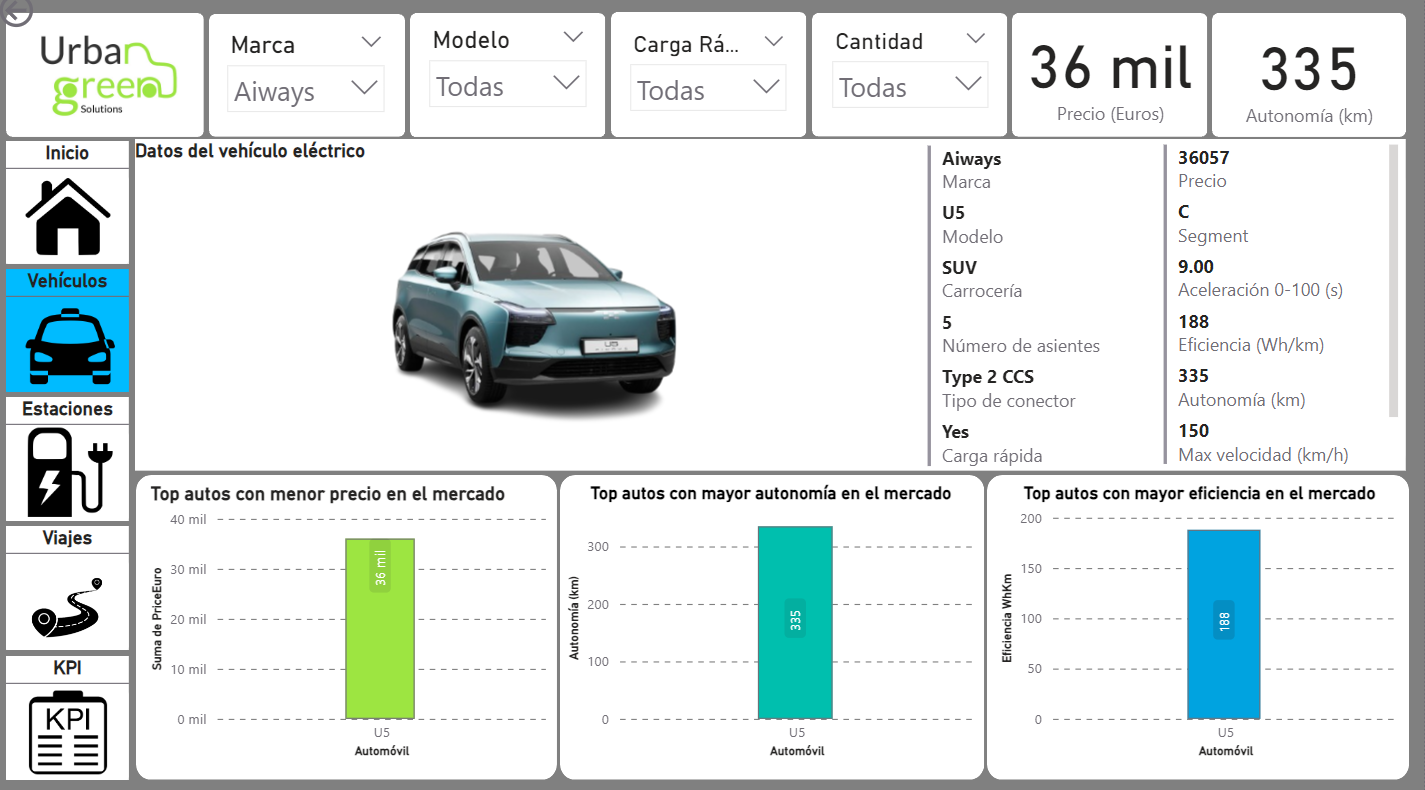

This screenshot's page, from the dashboard's own definition file:
{"tool":"powerbi","page":{"name":"Información de vehículos ","canvas":[1280,720],"ordinal":0},"visuals":[{"type":"shape","box":[10.7,20,175,110.7],"z":0},{"type":"image","box":[18.4,20.3,160,106.2],"z":1000},{"type":"shape","box":[192.1,20.7,175,110.7],"z":2000},{"type":"shape","box":[372.1,20,175,111.4],"z":3000},{"type":"shape","box":[552,19,175,112],"z":4000},{"type":"shape","box":[732.1,20,175,110.7],"z":5000},{"type":"shape","box":[911.4,20,175,111.4],"z":6000},{"type":"shape","box":[11,138,1255,297],"z":7000},{"type":"shape","box":[11,442,527,271],"z":8000},{"type":"shape","box":[545,442,506,271],"z":9000},{"type":"shape","box":[1058,442,208,271],"z":10000},{"type":"slicer","fields":{"Values":["ElectricCarData_Clean.Brand"]},"box":[198,31,161,97],"z":11000},{"type":"slicer","fields":{"Values":["ElectricCarData_Clean.Model"]},"box":[379,31,161,97],"z":12000},{"type":"slicer","fields":{"Values":["ElectricCarData_Clean.RapidCharge"]},"box":[559,31,160,96],"z":13000},{"type":"card","fields":{"Values":["Sum(ElectricCarData_Clean.Efficiency_WhKm)"]},"box":[1098.1,31.1,159.5,97.3],"z":14000},{"type":"card","fields":{"Values":["Sum(ElectricCarData_Clean.PriceEuro)"]},"box":[919,31,160,100],"z":15000},{"type":"shape","box":[1090.7,20,175,110.7],"z":16000},{"type":"slicer","fields":{"Values":["Tabla.Cantidad"]},"box":[740.2,28.2,159.5,98.2],"z":17000},{"type":"multiRowCard","fields":{"Values":["ElectricCarData_Clean.Brand","ElectricCarData_Clean.Model","ElectricCarData_Clean.BodyStyle","Sum(ElectricCarData_Clean.Seats)","ElectricCarData_Clean.PlugType","ElectricCarData_Clean.RapidCharge"]},"box":[838.4,138.1,200.4,296.7],"z":18000},{"type":"actionButton","box":[0,0,100,40],"z":19000},{"type":"multiRowCard","fields":{"Values":["ElectricCarData_Clean.AccelSec","Sum(ElectricCarData_Clean.Efficiency_WhKm)","Sum(ElectricCarData_Clean.Range_Km)","Sum(ElectricCarData_Clean.TopSpeed_KmH)","Sum(ElectricCarData_Clean.PriceEuro)"]},"box":[1058.2,138.1,199.4,296.7],"z":20000},{"type":"columnChart","title":"Top autos con menor precio en el mercado","fields":{"Category":["ElectricCarData_Clean.Model"],"Y":["Sum(ElectricCarData_Clean.PriceEuro)"]},"box":[15.2,445.1,518.5,265.1],"z":21000},{"type":"columnChart","title":"Top autos con mayor autonomía en el mercado","fields":{"Category":["ElectricCarData_Clean.Model"],"Y":["Sum(ElectricCarData_Clean.Range_Km)"]},"box":[550.5,446.4,494.1,264.6],"z":22000}]}

Visuals, with their boxes in screenshot pixels (x1, y1, x2, y2):
shape: (x1=0, y1=0, x2=194, y2=124)
image: (x1=6, y1=1, x2=185, y2=120)
shape: (x1=201, y1=1, x2=397, y2=125)
shape: (x1=403, y1=0, x2=599, y2=125)
shape: (x1=605, y1=0, x2=801, y2=125)
shape: (x1=807, y1=0, x2=1003, y2=124)
shape: (x1=1008, y1=0, x2=1205, y2=125)
shape: (x1=0, y1=133, x2=1406, y2=466)
shape: (x1=0, y1=474, x2=589, y2=778)
shape: (x1=597, y1=474, x2=1165, y2=778)
shape: (x1=1173, y1=474, x2=1406, y2=778)
slicer - ElectricCarData_Clean.Brand: (x1=207, y1=13, x2=388, y2=121)
slicer - ElectricCarData_Clean.Model: (x1=411, y1=13, x2=591, y2=121)
slicer - ElectricCarData_Clean.RapidCharge: (x1=613, y1=13, x2=792, y2=120)
card - Sum(ElectricCarData_Clean.Efficiency_WhKm): (x1=1218, y1=13, x2=1397, y2=122)
card - Sum(ElectricCarData_Clean.PriceEuro): (x1=1017, y1=13, x2=1196, y2=125)
shape: (x1=1209, y1=0, x2=1406, y2=124)
slicer - Tabla.Cantidad: (x1=816, y1=9, x2=995, y2=120)
multiRowCard - ElectricCarData_Clean.Brand x ElectricCarData_Clean.Model: (x1=926, y1=133, x2=1151, y2=466)
actionButton: (x1=0, y1=0, x2=97, y2=23)
multiRowCard - ElectricCarData_Clean.AccelSec x Sum(ElectricCarData_Clean.Efficiency_WhKm): (x1=1173, y1=133, x2=1397, y2=466)
"Top autos con menor precio en el mercado" columnChart: (x1=2, y1=477, x2=584, y2=775)
"Top autos con mayor autonomía en el mercado" columnChart: (x1=603, y1=479, x2=1158, y2=776)
